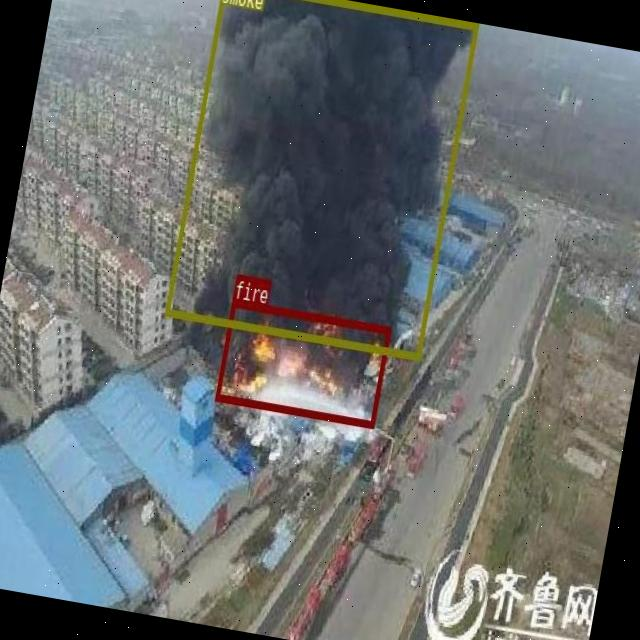fire: (215, 298, 391, 427)
smoke: (164, 0, 478, 358)
